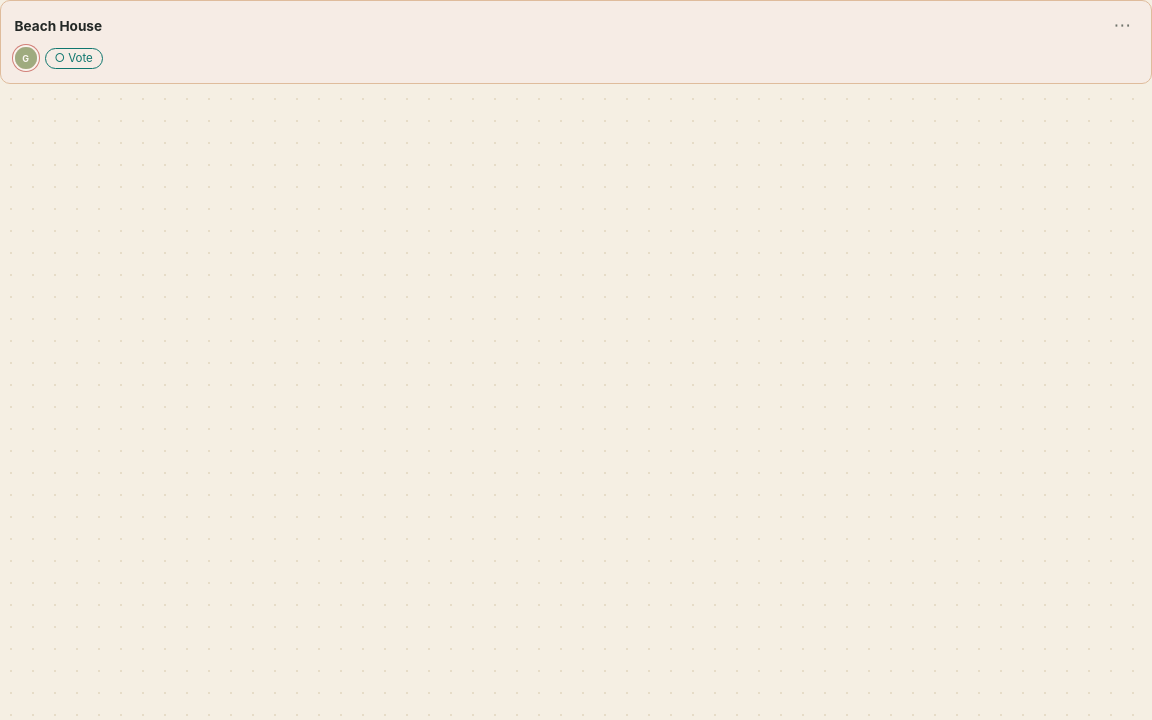
Test: OptionCard › says in words that a vote predates the last change
Click the button named "1 vote — see who": (26, 58) [15,47,37,69]
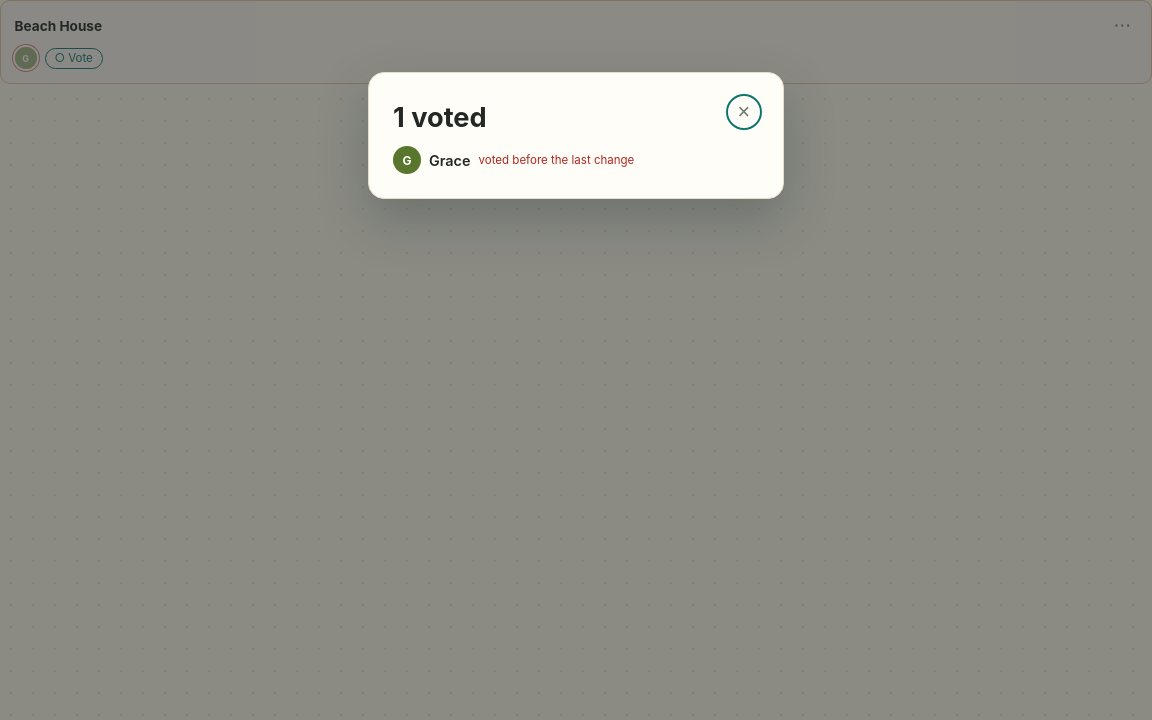
Now the text "voted before the last change" is shown, box [478,153,634,167]
